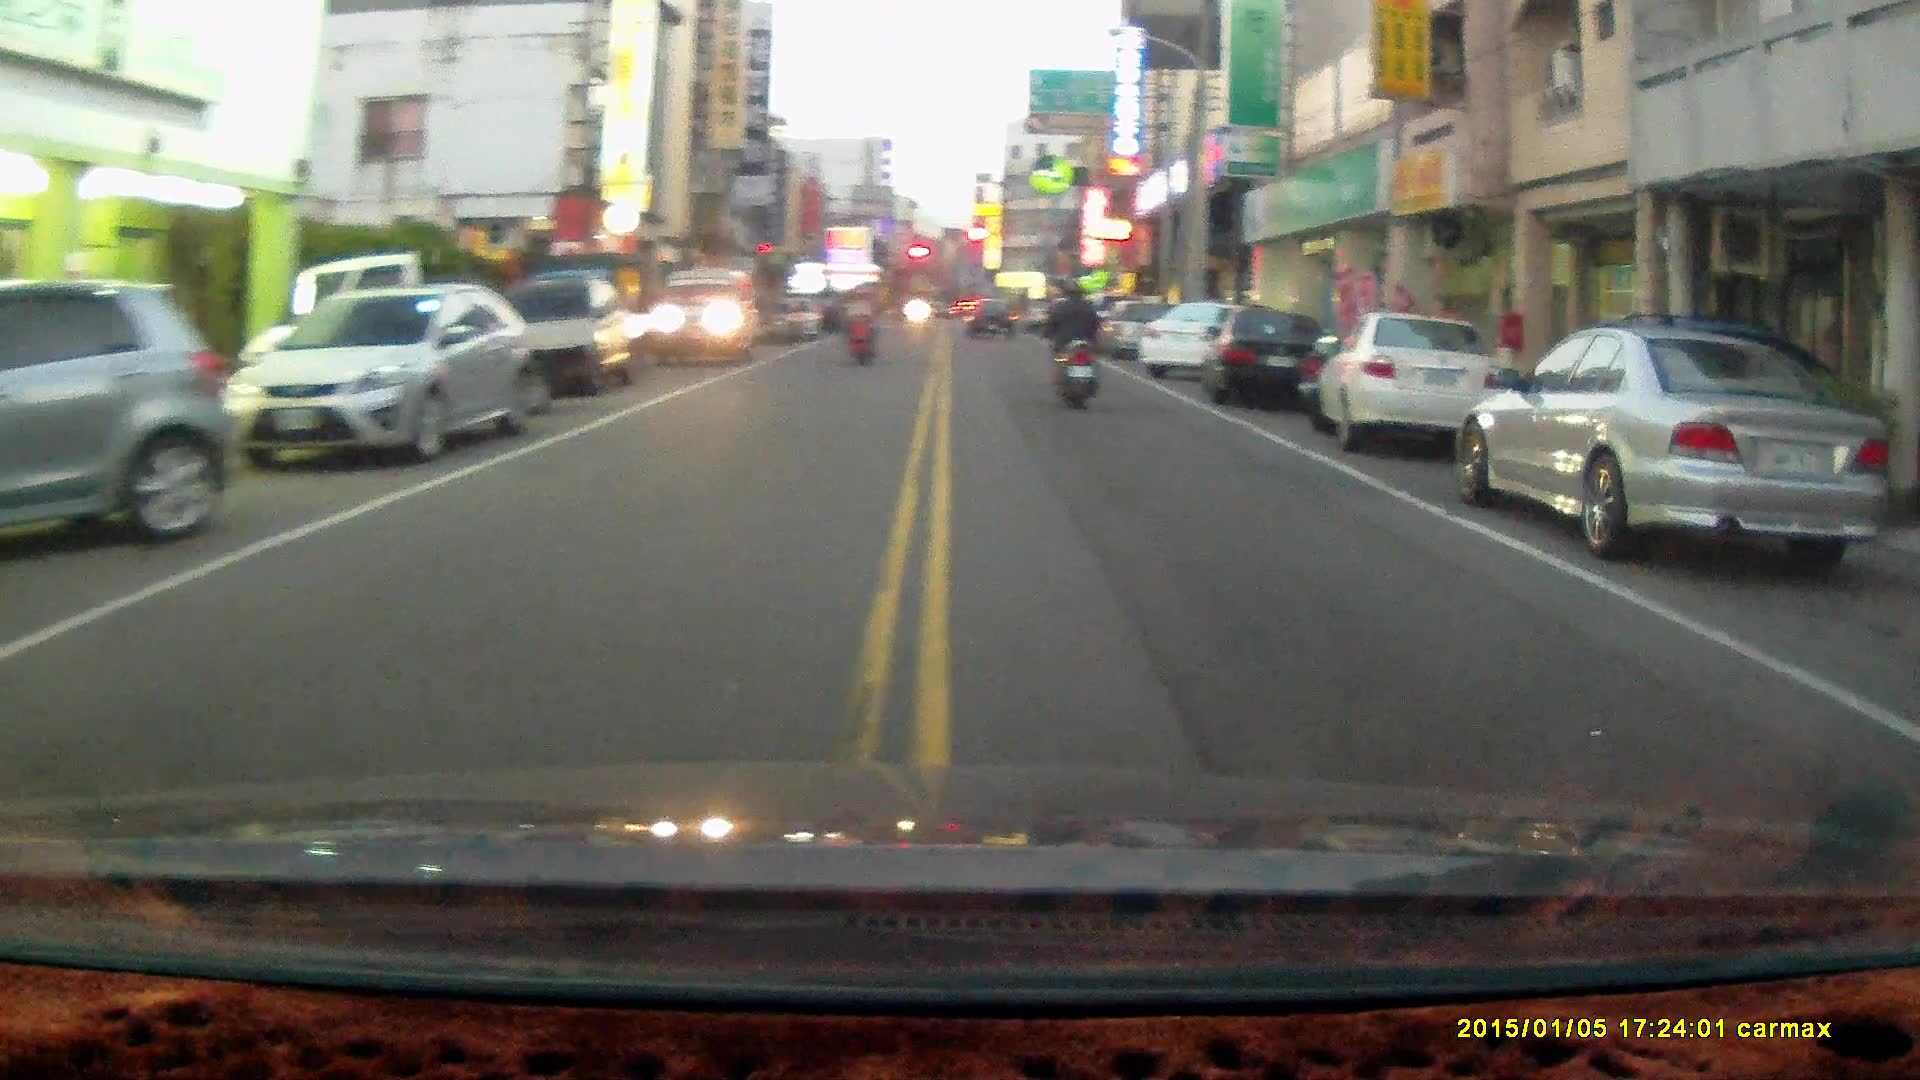rider: (1041, 275, 1099, 412), (845, 283, 879, 367)
vehicle: (1460, 323, 1896, 567), (1, 279, 240, 555), (227, 281, 528, 465), (1313, 311, 1521, 453), (493, 270, 638, 401), (1208, 302, 1335, 411), (647, 267, 761, 368)
